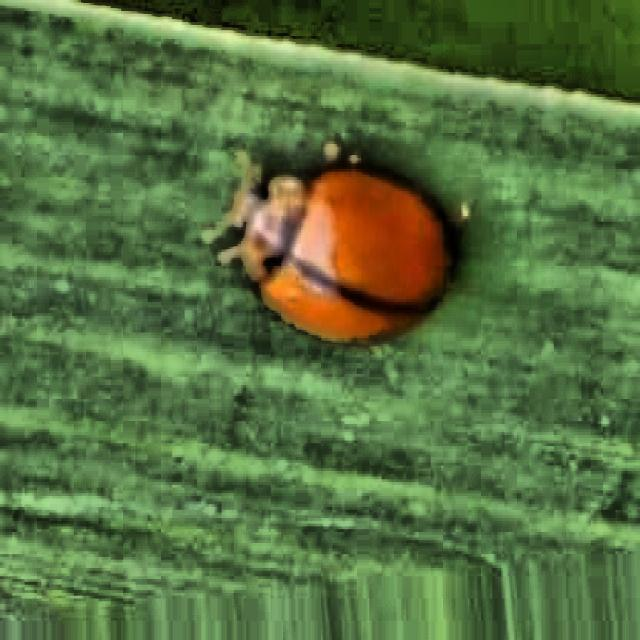Ladybug: (207, 91, 481, 374)
